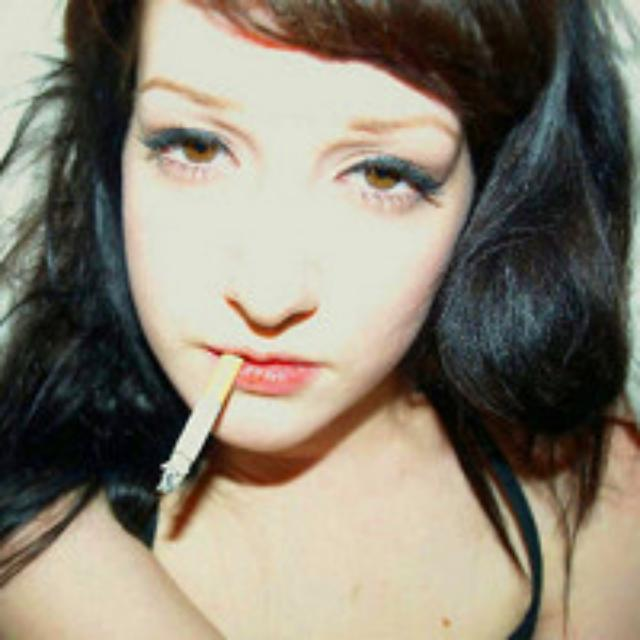SafeDriving: (310, 119, 456, 223), (131, 90, 267, 198)
Smoking: (148, 352, 246, 496)
